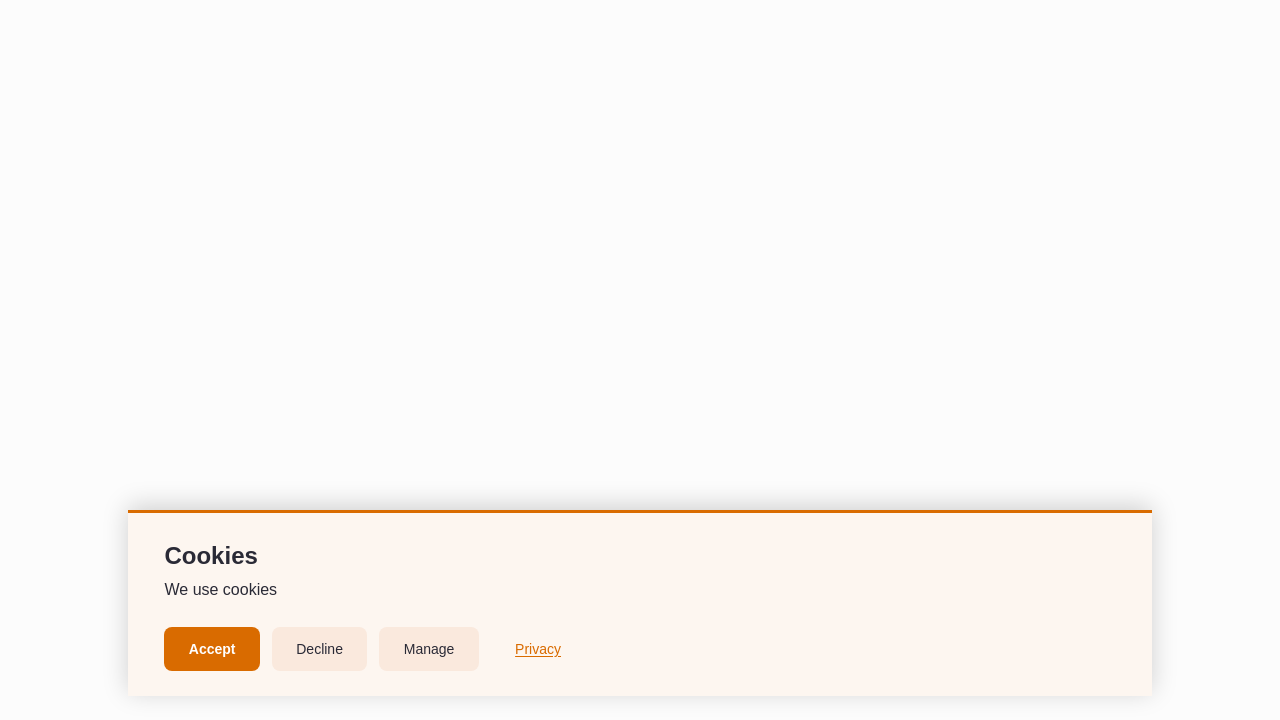
it: CookieBanner (Providers) › manage modal › opens the manage modal when Manage button is clicked
This screenshot has width=1280, height=720.
Click the button "Manage". click: (429, 649)
box: 379,627 -> 479,671
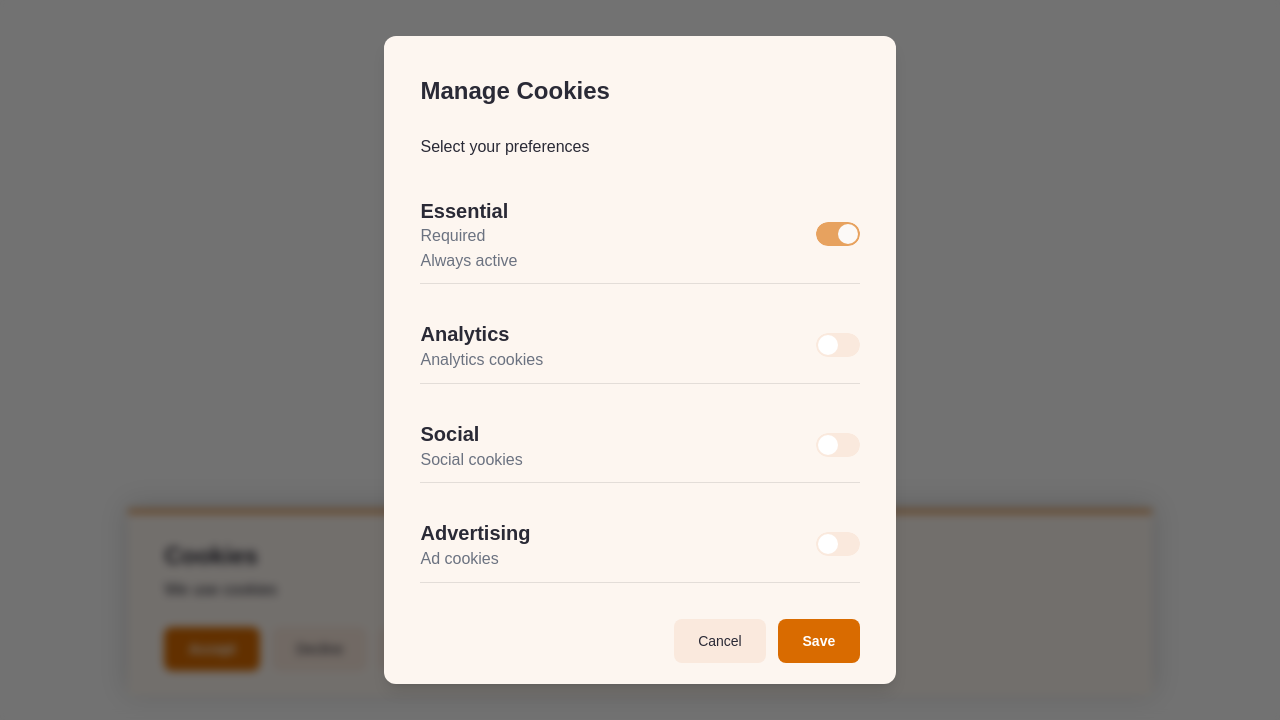
Check: the dialog is shown
Check: the heading "Manage Cookies" is shown, box 420,78 -> 610,104
